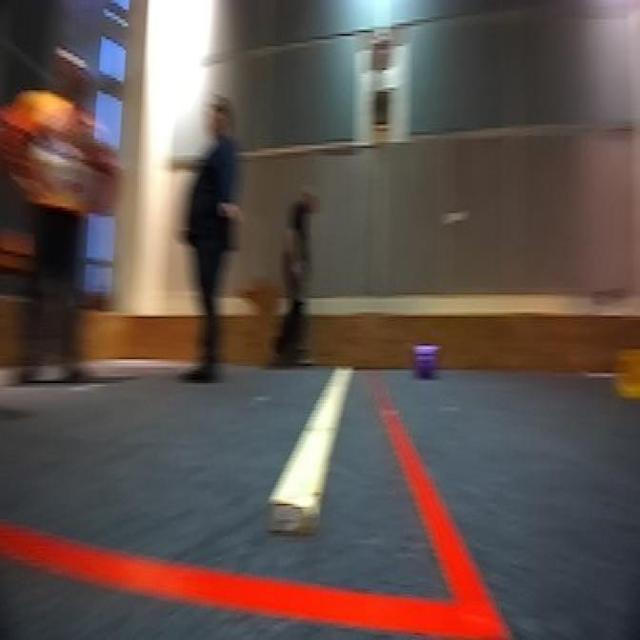frc_cone: (614, 346, 640, 405)
frc_cube: (414, 342, 440, 381)
